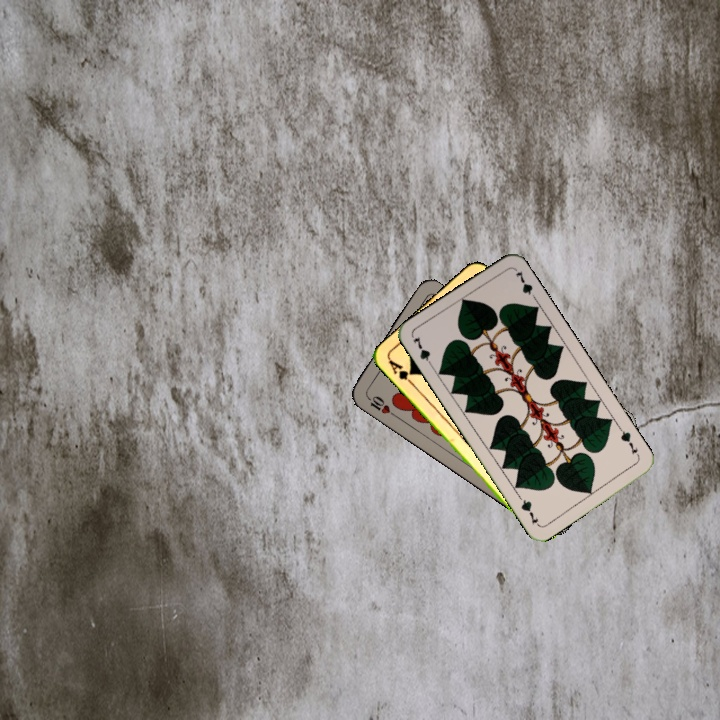G7: (408, 333, 436, 370), (615, 424, 642, 460)
GA: (384, 355, 417, 389)
H10: (362, 391, 398, 419)
